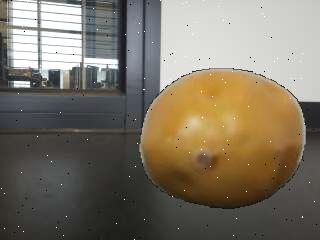Potato: (139, 69, 307, 210)
